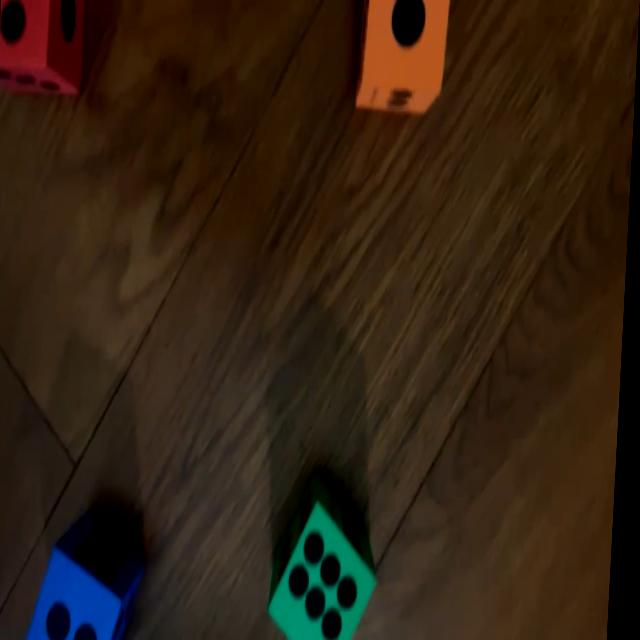red_block: (0, 0, 85, 96)
